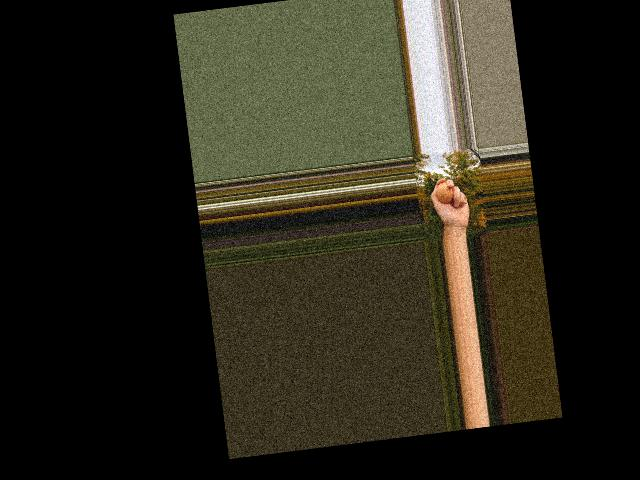egg: (435, 181, 455, 204)
